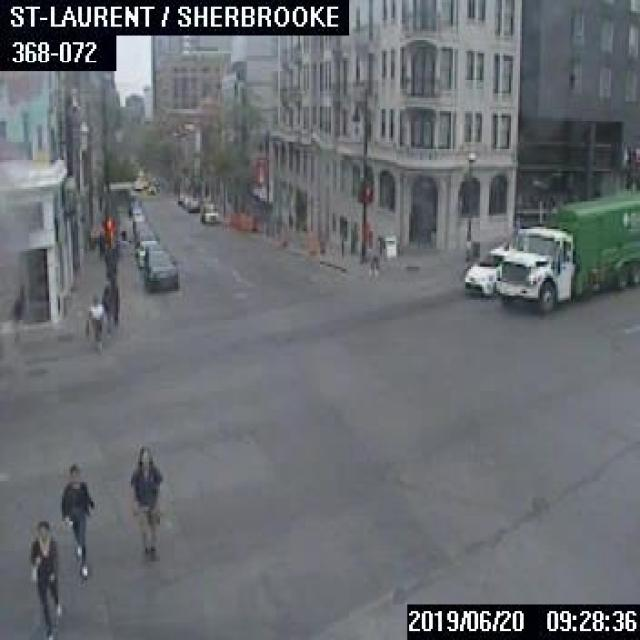pedestrian: (27, 518, 64, 638), (127, 444, 164, 558), (58, 464, 93, 584), (84, 291, 104, 353), (100, 283, 110, 337), (366, 240, 379, 276)
vehicle: (496, 189, 638, 309), (464, 242, 509, 292), (142, 248, 176, 294), (134, 237, 159, 266), (134, 230, 158, 246), (200, 202, 218, 222), (185, 194, 199, 211)
